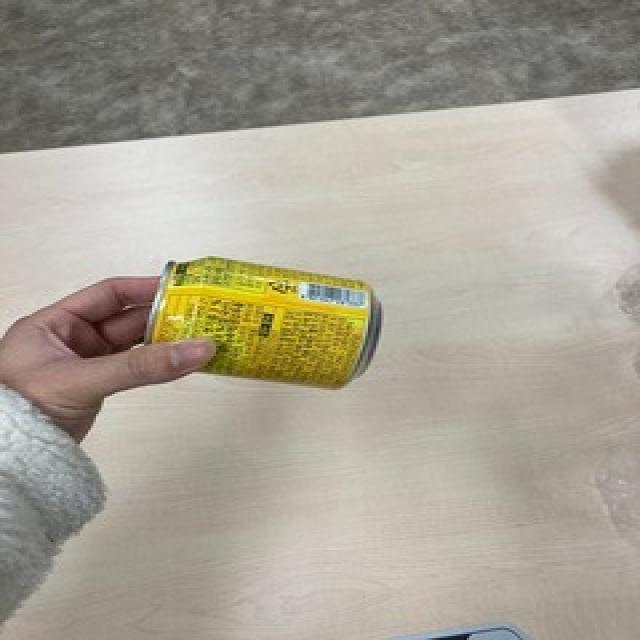can: (136, 250, 389, 398)
